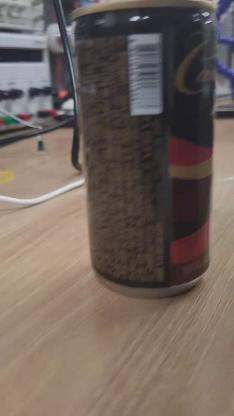Can: (72, 8, 214, 296)
